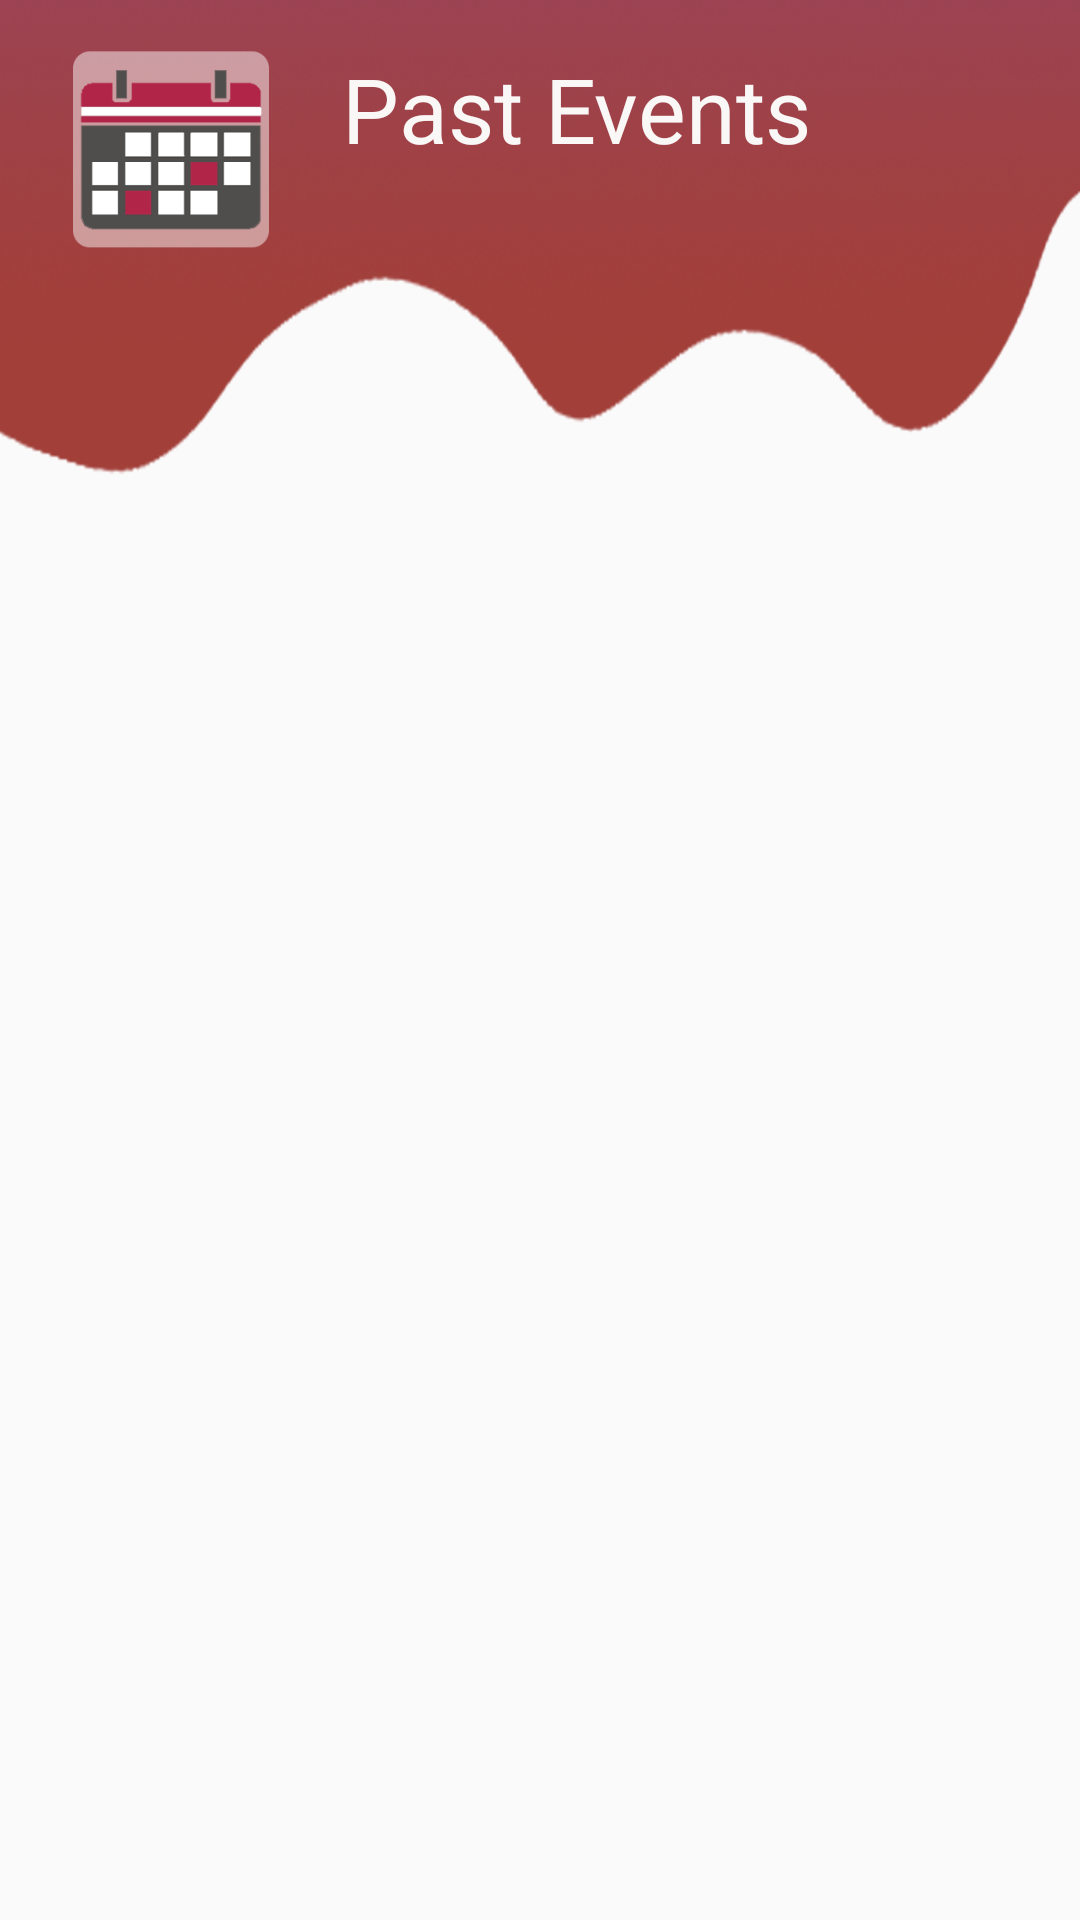

Where icons sit on this 1080px x 1920px app screen, as box(x1, y1, x2, y2):
calendar: box(73, 51, 269, 248)
